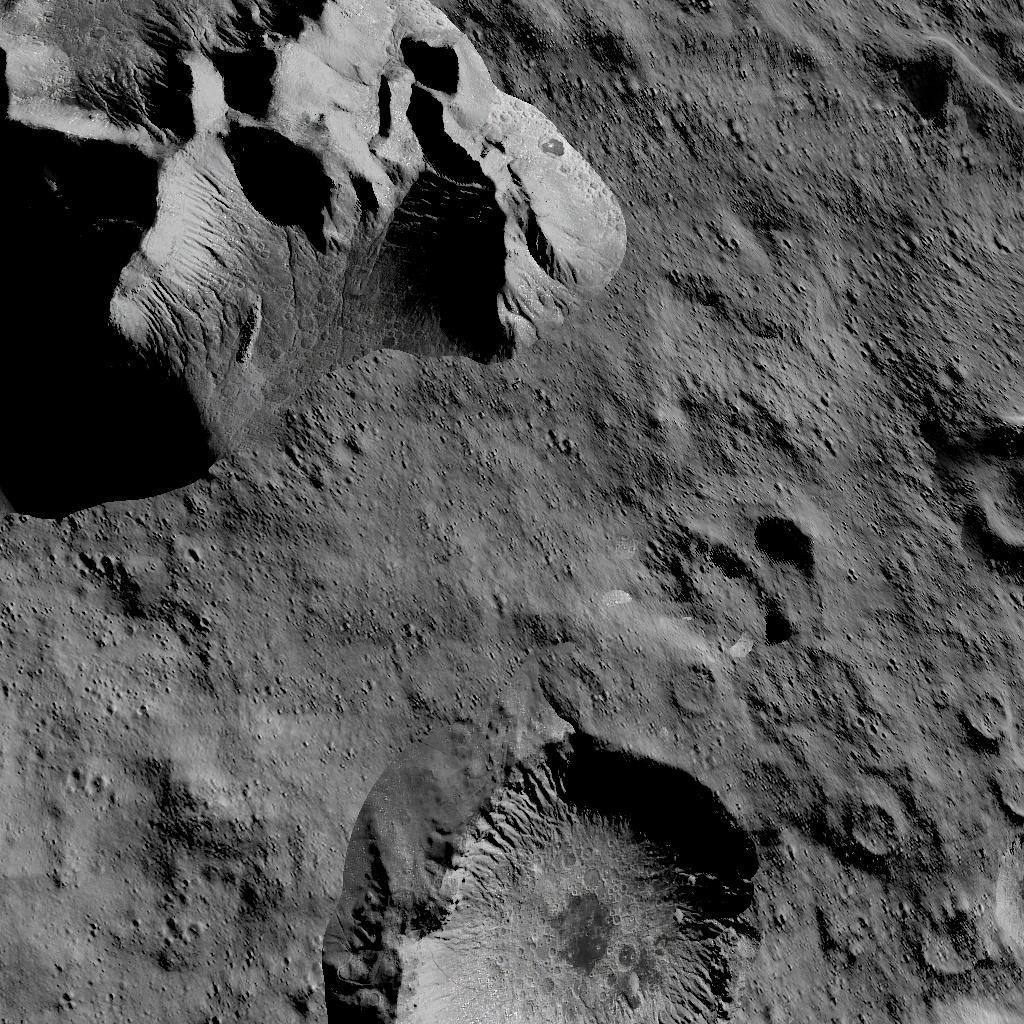Boulders: (1, 0, 631, 518)
Crater: (327, 718, 773, 1024), (937, 410, 1024, 566), (737, 508, 823, 650), (909, 900, 986, 976), (837, 794, 903, 862), (953, 684, 1018, 744), (666, 656, 724, 713)
Plan surface: (3, 524, 317, 1024), (643, 124, 1023, 400), (329, 526, 632, 712)
